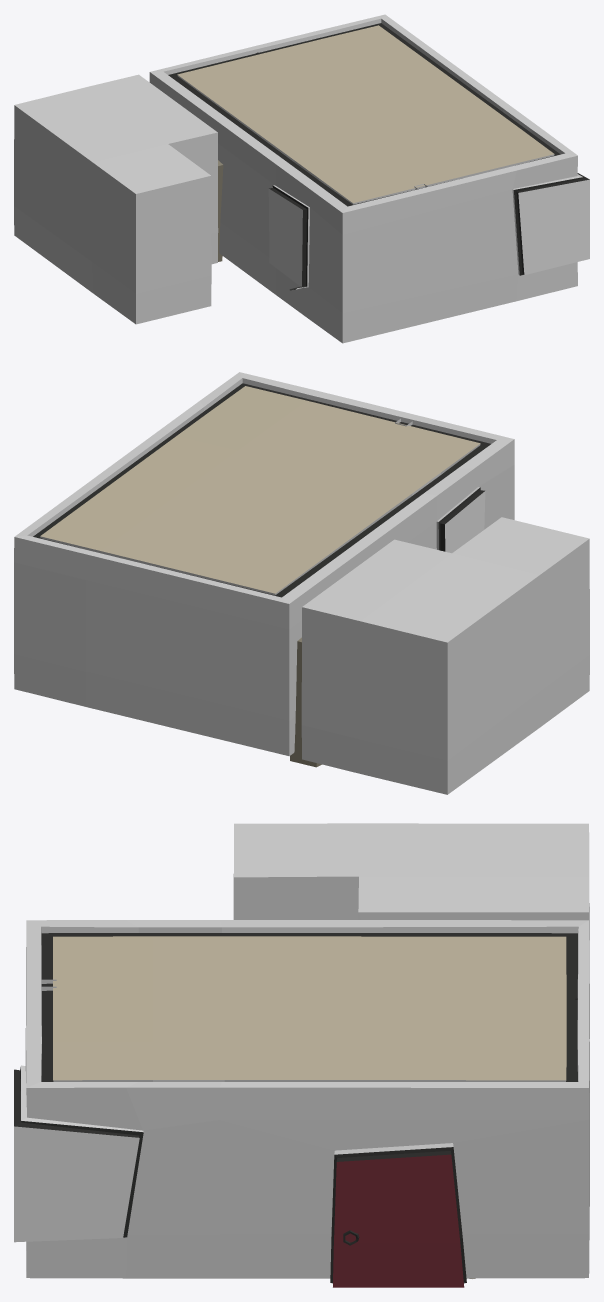
The model's file is Cuisine.fbx.
The picture shows the model from 3 angles, top to bottom: view 1: azimuth 30°, elevation 25°; view 2: azimuth 150°, elevation 25°; view 3: azimuth 270°, elevation 25°; orthographic projection. The views are drawn at different scales.
Visible parts, largest first — view 1: Plane; view 2: Plane, Cube.055; view 3: Plane.
Part boxes in pixels (bbox=[...]): Plane: bbox=[14, 14, 589, 343]; Plane: bbox=[14, 372, 589, 794]; Cube.055: bbox=[290, 637, 321, 767]; Plane: bbox=[14, 823, 589, 1287].
Size of the model in its own units: 3140 by 1089 by 2776.
